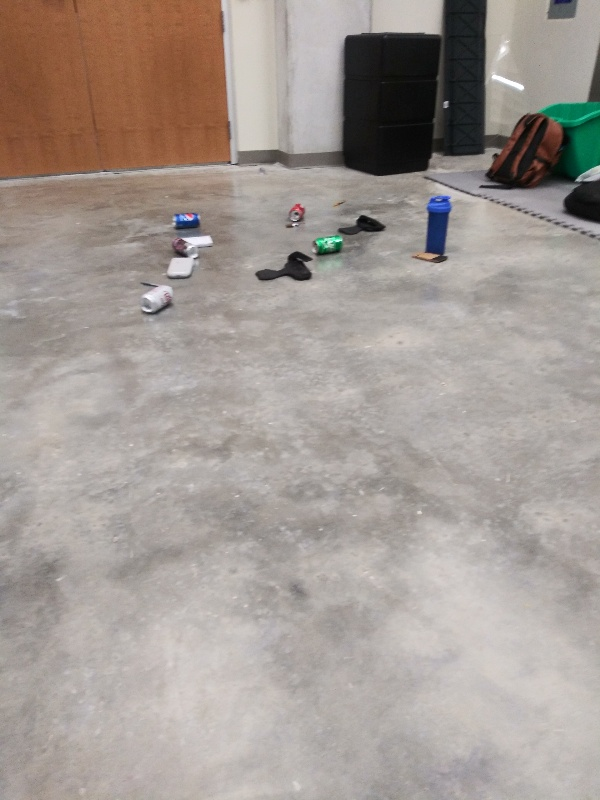can: (137, 282, 177, 319), (310, 232, 345, 255), (169, 235, 201, 259), (170, 211, 204, 231), (287, 201, 308, 223)
